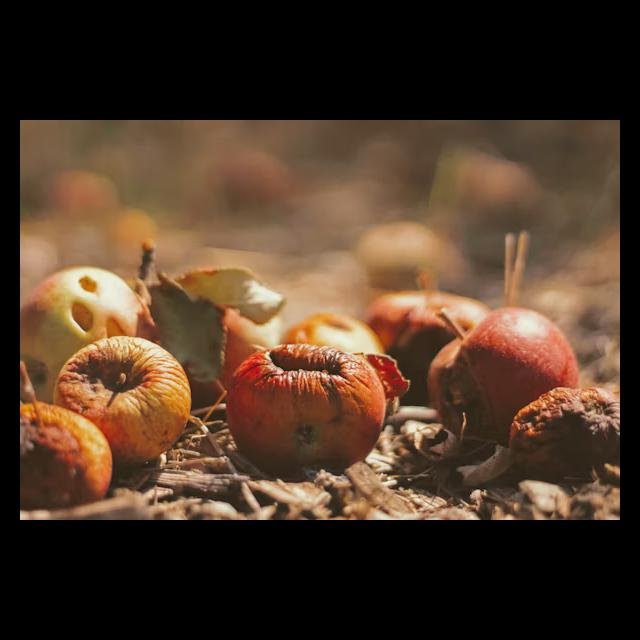food_waste: (431, 285, 573, 434), (224, 346, 399, 464), (26, 248, 172, 367), (75, 339, 191, 454), (20, 406, 126, 510), (516, 383, 620, 473)
